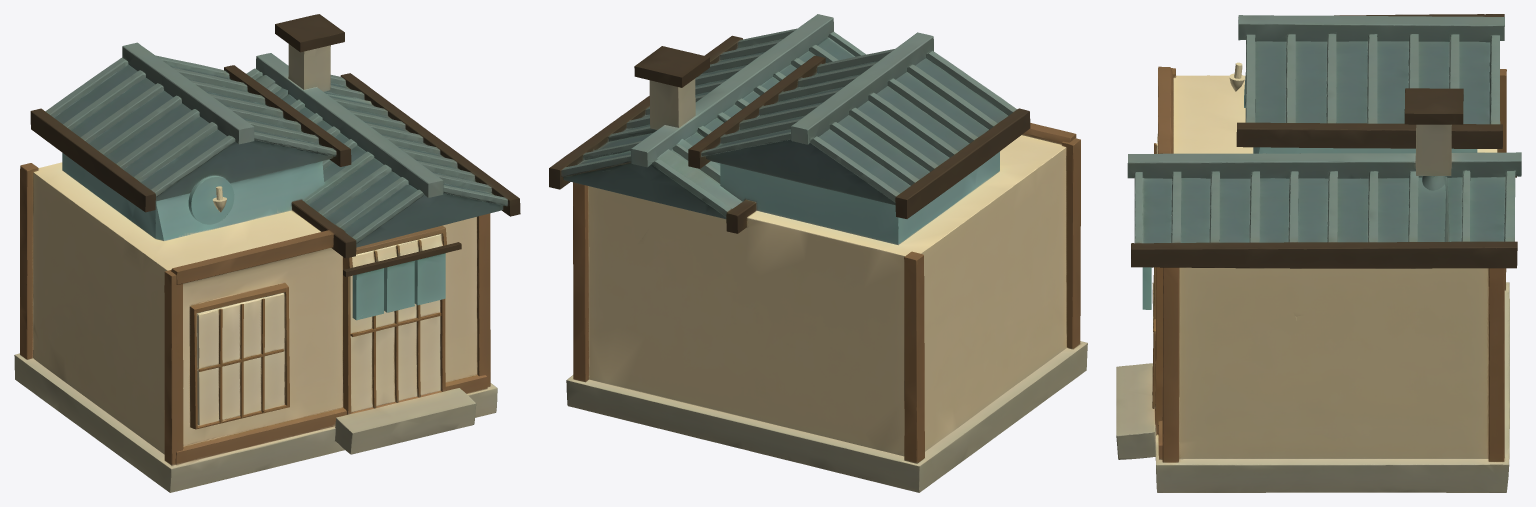
Rendered from source.glb.
The picture shows the model from 3 angles, left to right: view 1: azimuth 30°, elevation 25°; view 2: azimuth 150°, elevation 25°; view 3: azimuth 270°, elevation 25°; orthographic projection. The views are drawn at different scales.
Visible parts, largest first — view 1: model; view 2: model; view 3: model.
Part boxes in pixels (<box>): model: <box>14,14,520,492</box>; model: <box>549,14,1087,492</box>; model: <box>1116,14,1521,492</box>.
Bounding box in the file's own units: 1.9 × 1.67 × 1.72.
1 material, 1 textured.
